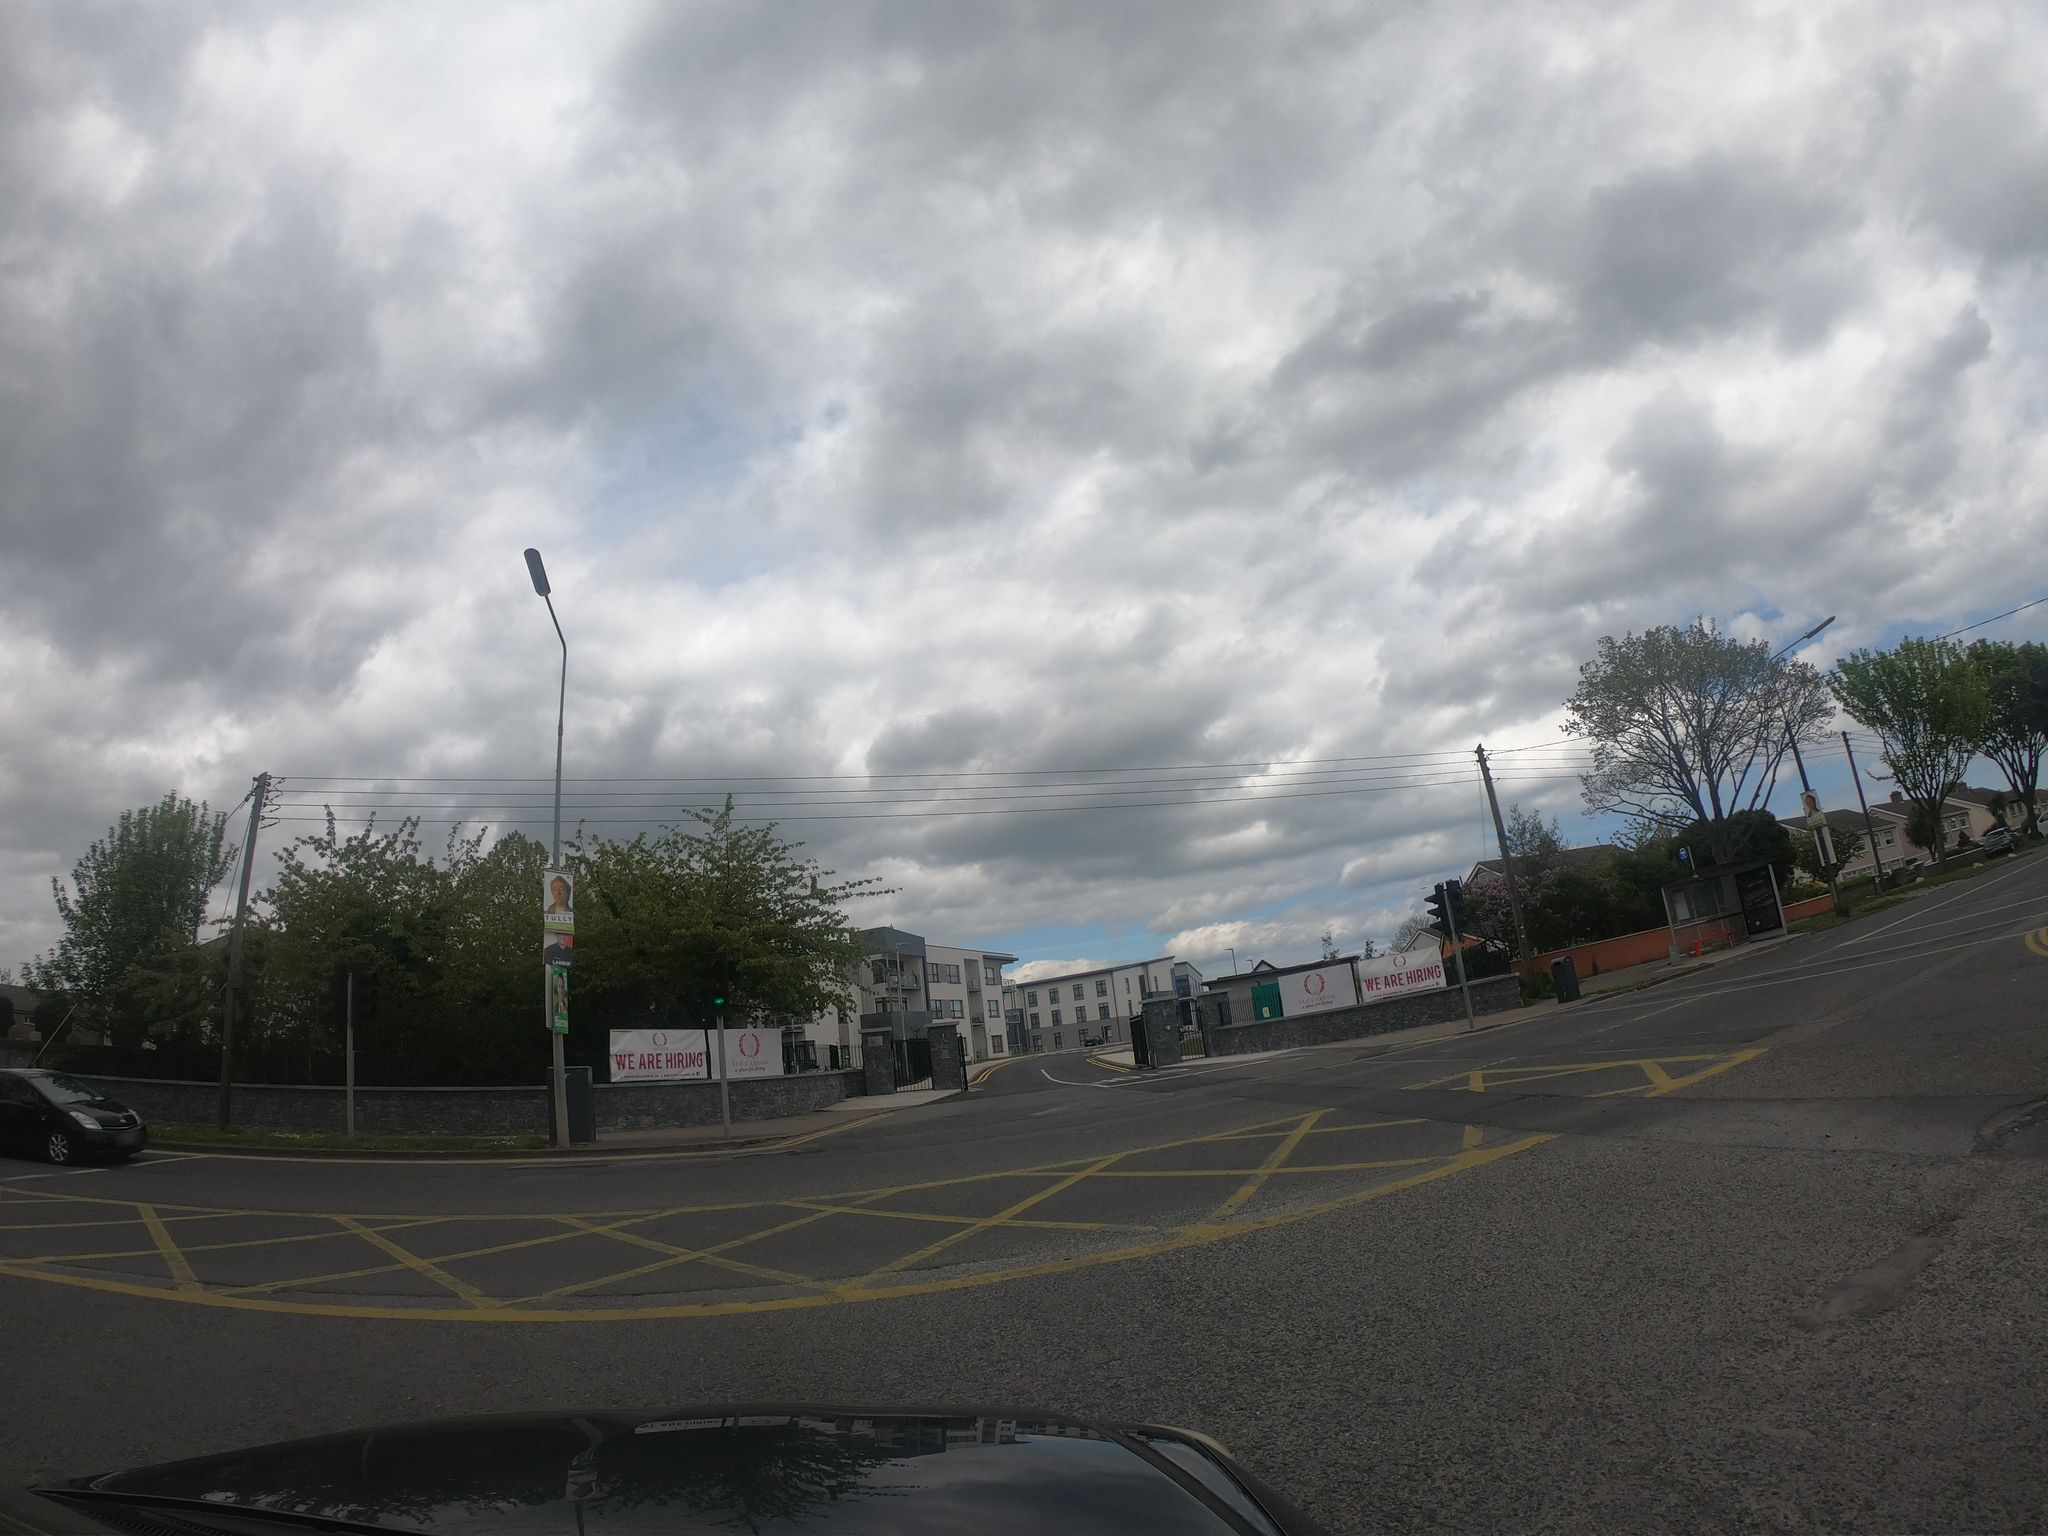vinyl banner: (589, 1004, 718, 1091), (1334, 937, 1472, 1010)
